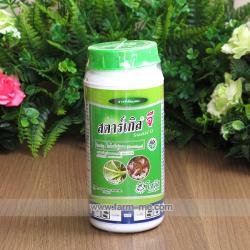Insecticide: (82, 36, 169, 236)
